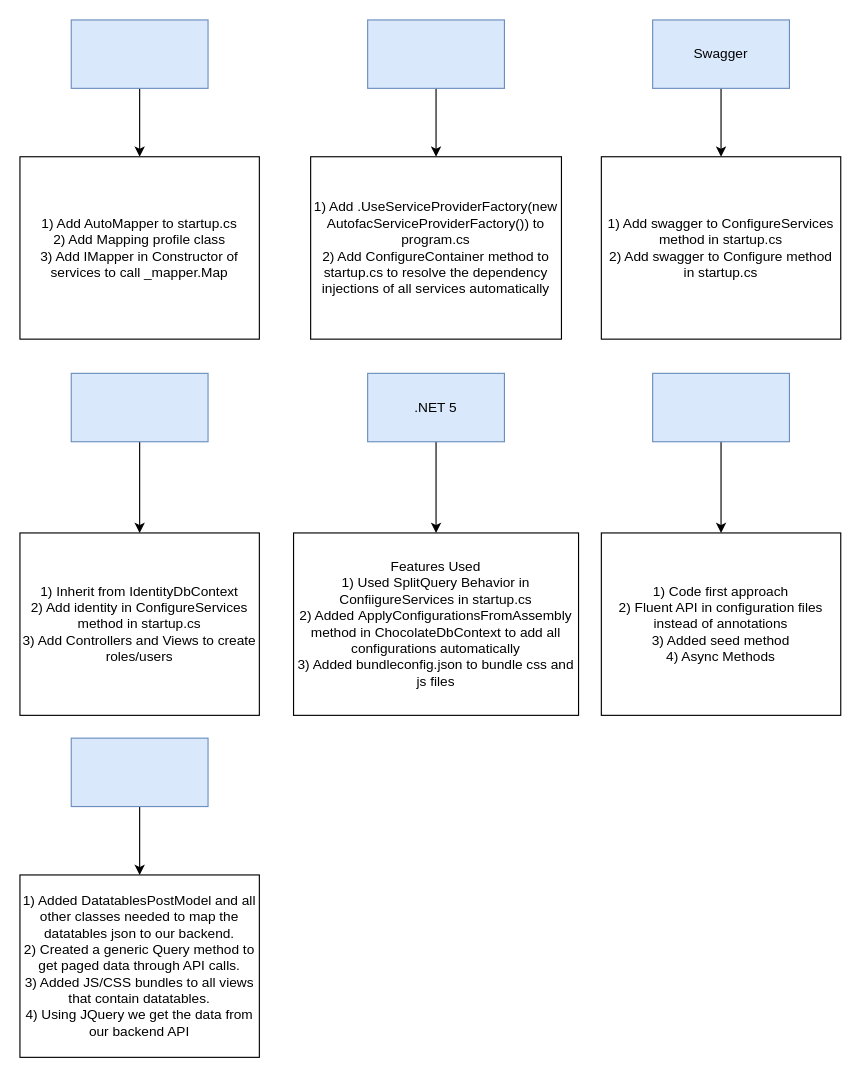
The diagram is 861 pixels wide and 1077 high, and some of its shapes have lost their labels. The shapes that lost their labels are listed below. From the top down, each one's box as (x1, y1, x2, y2) in pixels, then its label:
(70, 19, 208, 88): AutoMapper
(367, 19, 504, 88): Autofac
(70, 372, 208, 442): AspNetCore Identity
(652, 372, 789, 442): EntityFramework Core
(70, 737, 208, 807): DataTables
